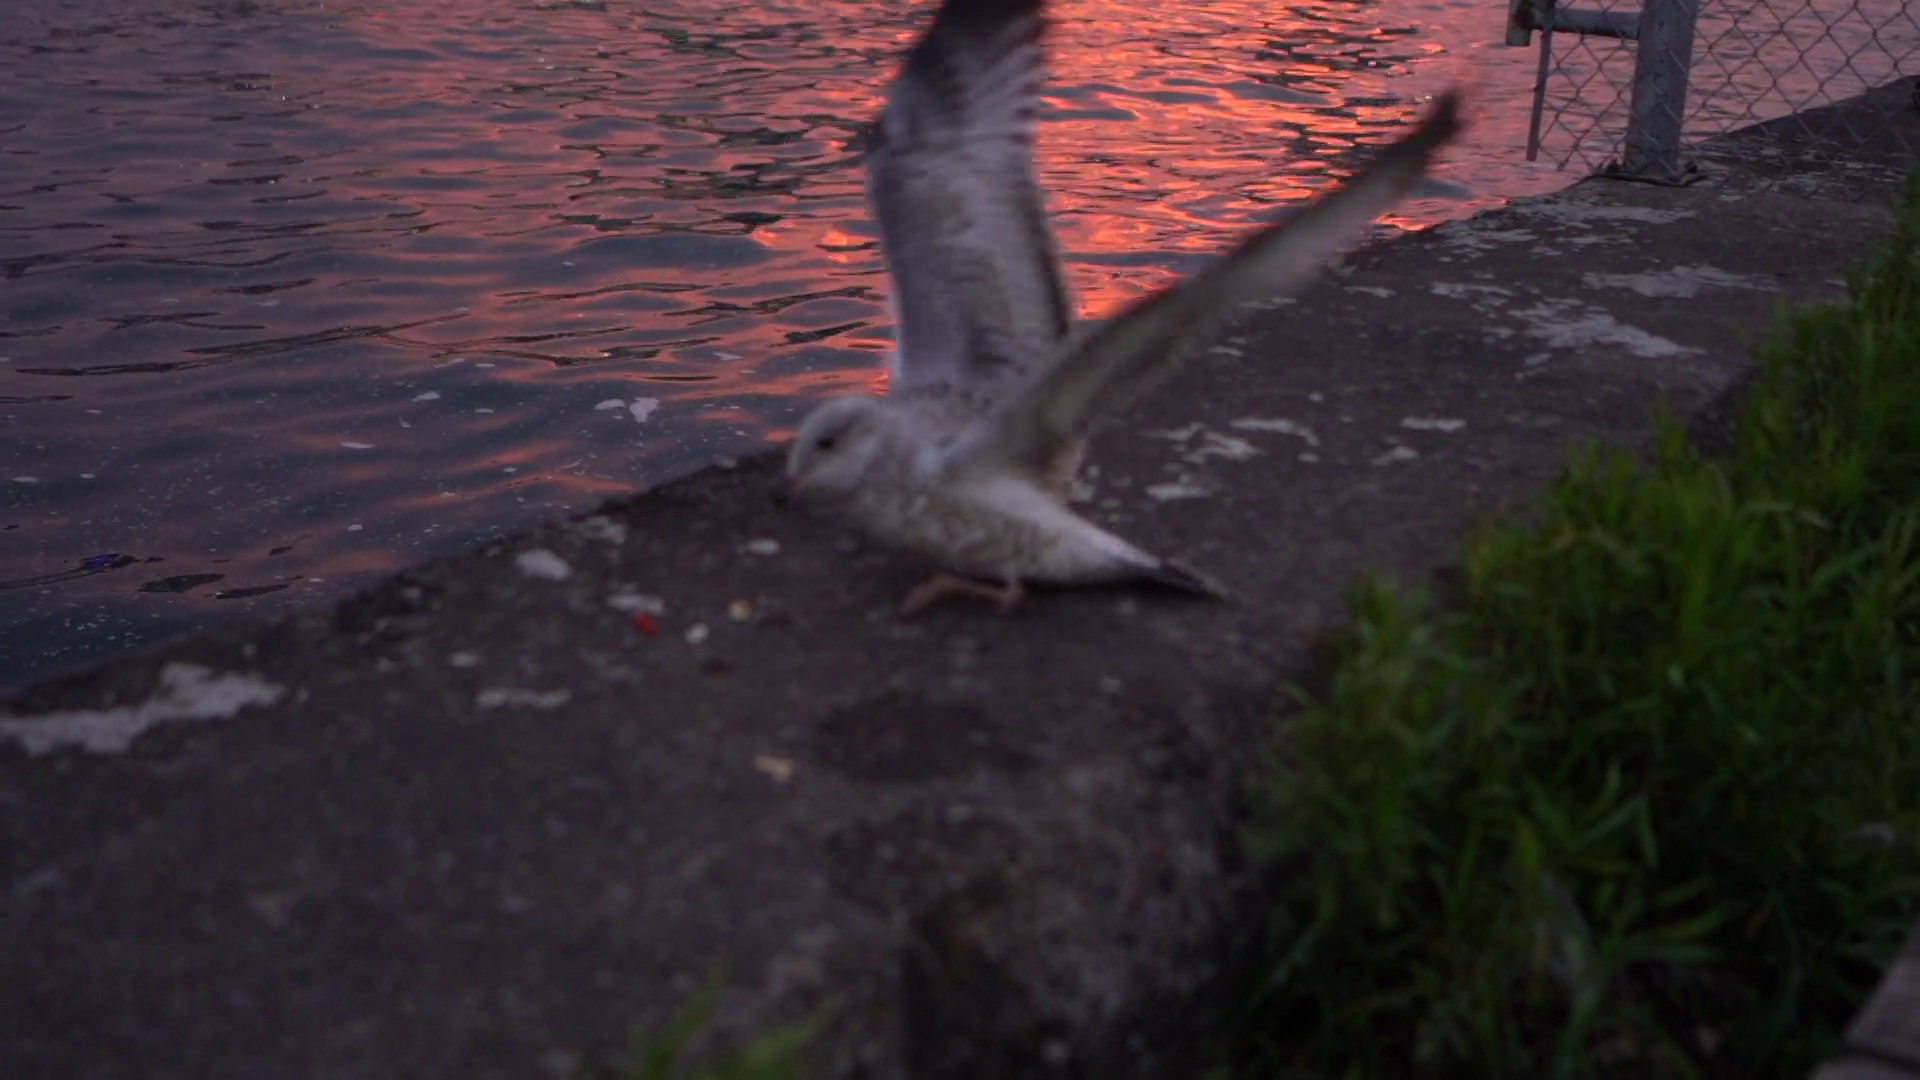bird: (778, 1, 1462, 618)
